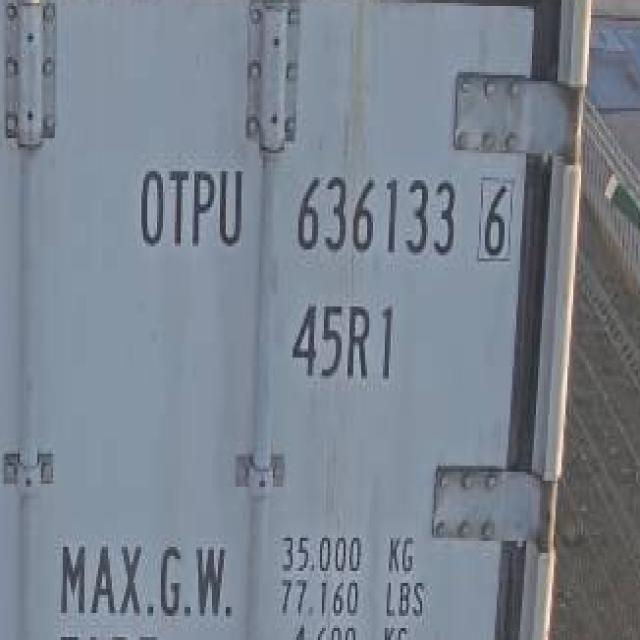dv: (471, 168, 518, 263)
owner: (134, 154, 249, 258)
serial: (288, 162, 459, 262)
size: (288, 294, 400, 390)
